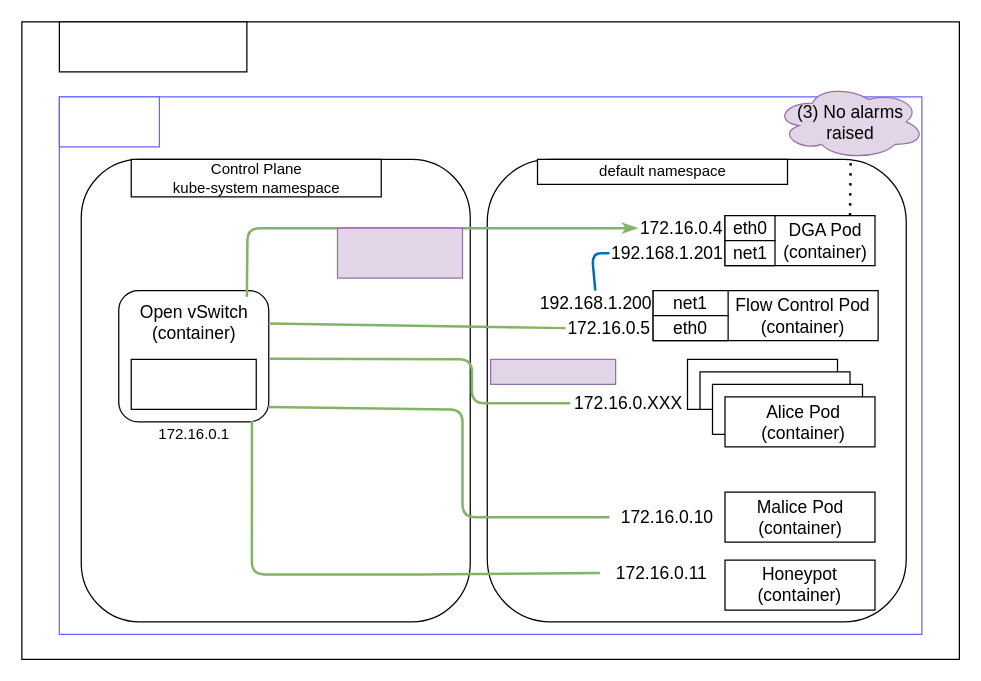
Some shapes in this 981 by 681 pixel diagram are drawn without their labels. The shapes that lost their labels are listed below. From the top down, each one's centre as x and y in pixels, then its label:
point (152, 46): Minikube Cluster (host)
point (108, 121): Node (container)
point (399, 252): (2) DNS lookup mirrored
point (193, 383): Alarm listener service
point (552, 371): (1) DNS lookup
